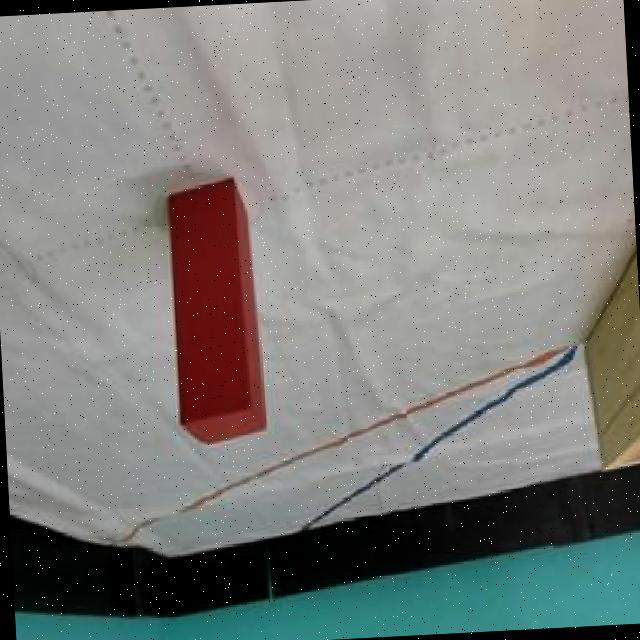redbox: (168, 178, 266, 448)
